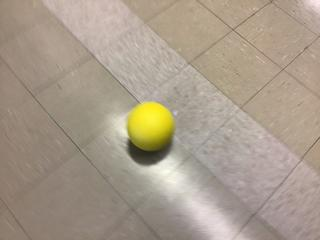power_cell: (126, 101, 175, 152)
